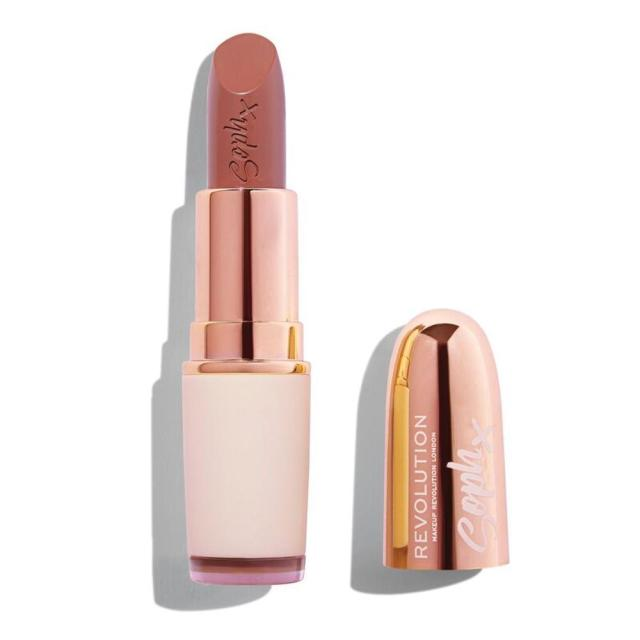lipstick: (125, 18, 347, 598)
